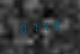four: (40, 19, 50, 33)
nine: (51, 19, 61, 32)
seven: (29, 20, 39, 34)
zero: (18, 21, 28, 34)
